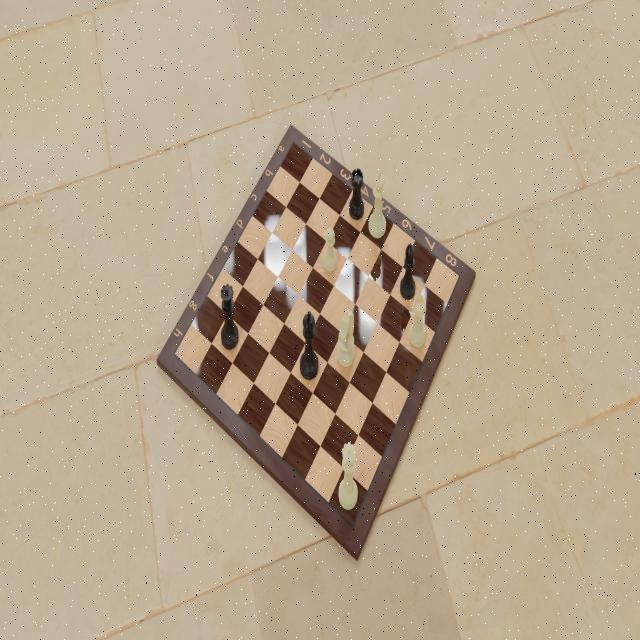black-bishop: (399, 240, 416, 299)
black-king: (299, 309, 321, 384)
black-queen: (219, 283, 240, 351)
black-rook: (347, 167, 365, 223)
white-king: (367, 170, 389, 242)
white-knight: (336, 308, 356, 368)
white-pawn: (323, 226, 339, 273)
white-queen: (336, 441, 359, 515)
white-rook: (407, 290, 428, 349)
